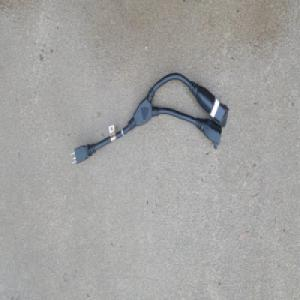Wire: (69, 71, 230, 165)
